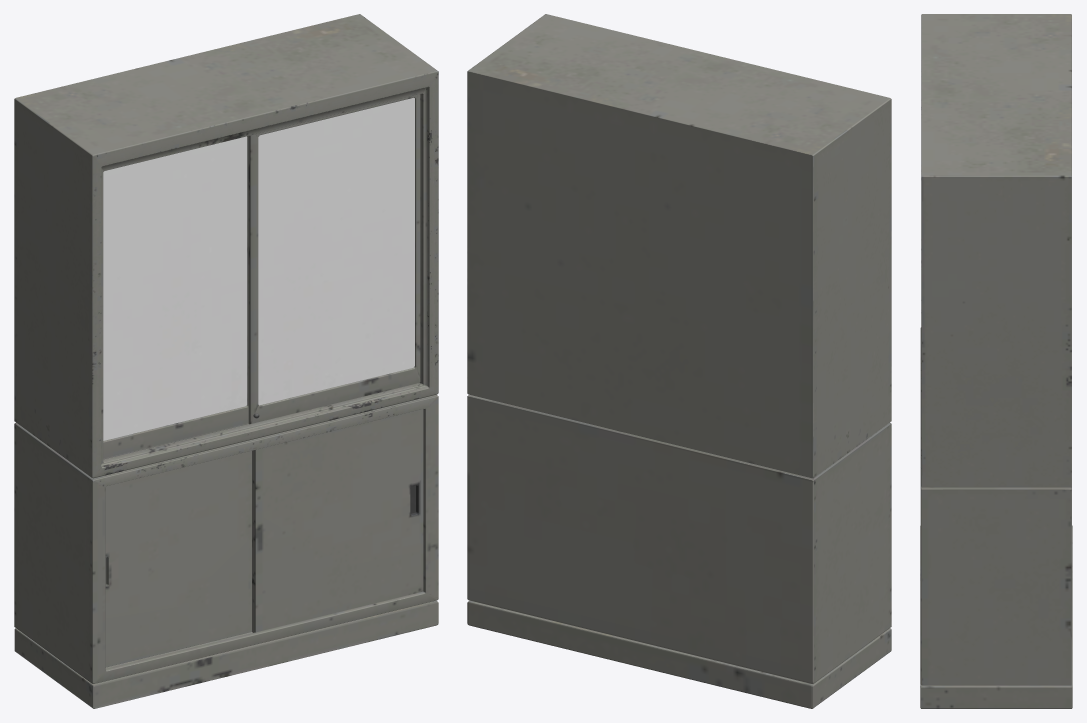
Rendered from sm39_008_bookandcabinet02a.fbx.
3 renders of one model, left to right at view 1: azimuth 30°, elevation 25°; view 2: azimuth 150°, elevation 25°; view 3: azimuth 270°, elevation 25°, orthographic. The views are drawn at different scales.
Parts seen in each view (by area): view 1: LOD_1_Group_0_Sub_1__sm30_026_OfficeCabinet01A_A_Mat1, LOD_1_Group_0_Sub_2__sm30_026_OfficeCabinet01A_B_Mat1; view 2: LOD_1_Group_0_Sub_1__sm30_026_OfficeCabinet01A_A_Mat1; view 3: LOD_1_Group_0_Sub_1__sm30_026_OfficeCabinet01A_A_Mat1.
Boxes of the visible parts, x1,y1,x2,y2 form: LOD_1_Group_0_Sub_1__sm30_026_OfficeCabinet01A_A_Mat1: (14, 14, 438, 708); LOD_1_Group_0_Sub_2__sm30_026_OfficeCabinet01A_B_Mat1: (103, 98, 414, 440); LOD_1_Group_0_Sub_1__sm30_026_OfficeCabinet01A_A_Mat1: (467, 14, 891, 708); LOD_1_Group_0_Sub_1__sm30_026_OfficeCabinet01A_A_Mat1: (920, 14, 1072, 708).
Size of the model in its own units: 1.48 by 2.26 by 0.5848.
